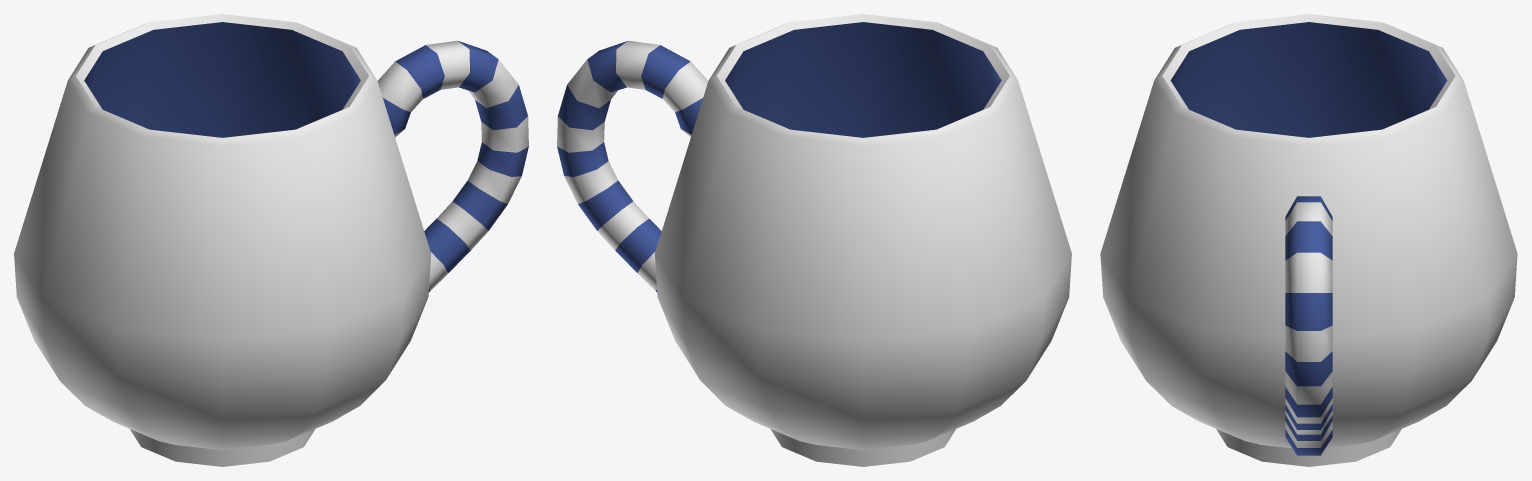
Rendered from Mug_05.fbx.
3 views of the same model, side by side, from view 1: azimuth 30°, elevation 25°; view 2: azimuth 150°, elevation 25°; view 3: azimuth 270°, elevation 25° (orthographic).
Visible parts, largest first — view 1: Mug_05; view 2: Mug_05; view 3: Mug_05.
Boxes of the visible parts, bbox=[...] form: Mug_05: bbox=[14, 14, 528, 466]; Mug_05: bbox=[557, 14, 1071, 466]; Mug_05: bbox=[1100, 14, 1517, 466].
Bounding box in the file's own units: 0.1651 × 0.1152 × 0.124.
